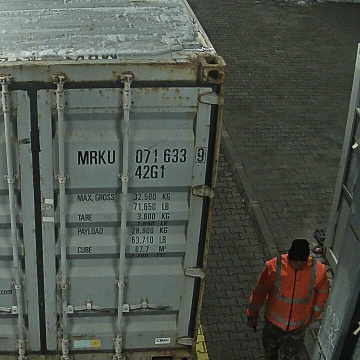serial_id: (78, 148, 205, 164)
